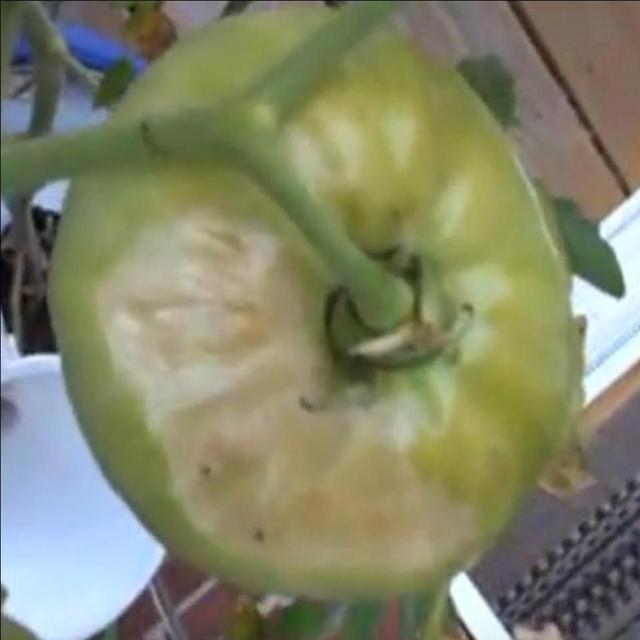Sunscald Fruit: (64, 128, 331, 388)
